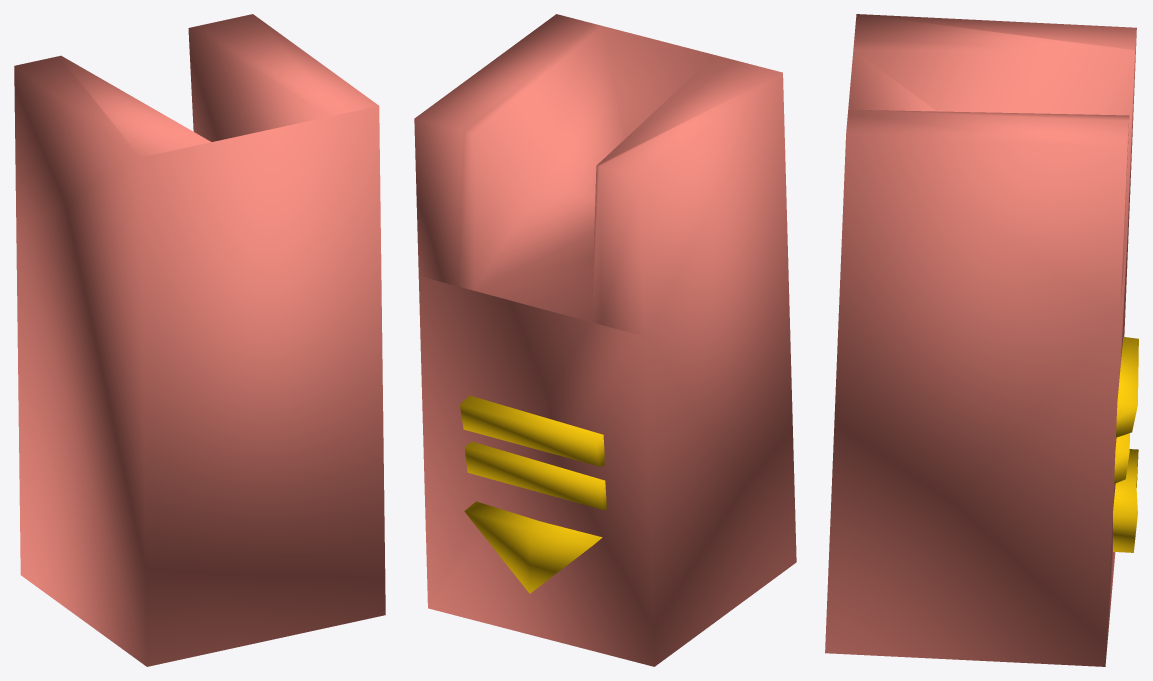
File: forearm_left.glb.gltf
3 renders of one model, left to right at view 1: azimuth 30°, elevation 25°; view 2: azimuth 150°, elevation 25°; view 3: azimuth 270°, elevation 25°, orthographic. The views are drawn at different scales.
Parts seen in each view (by area): view 1: group1050917466; view 2: group1050917466; view 3: group1050917466.
Boxes of the visible parts, x1,y1,x2,y2 form: group1050917466: (14, 14, 385, 666); group1050917466: (414, 14, 796, 666); group1050917466: (825, 14, 1138, 666).
Size of the model in its own units: 0.0838 by 0.1665 by 0.0891.
